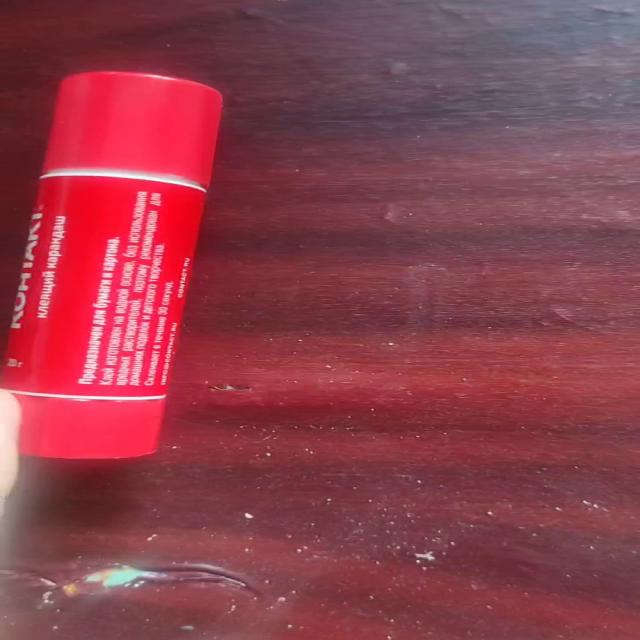glue: (1, 70, 223, 460)
